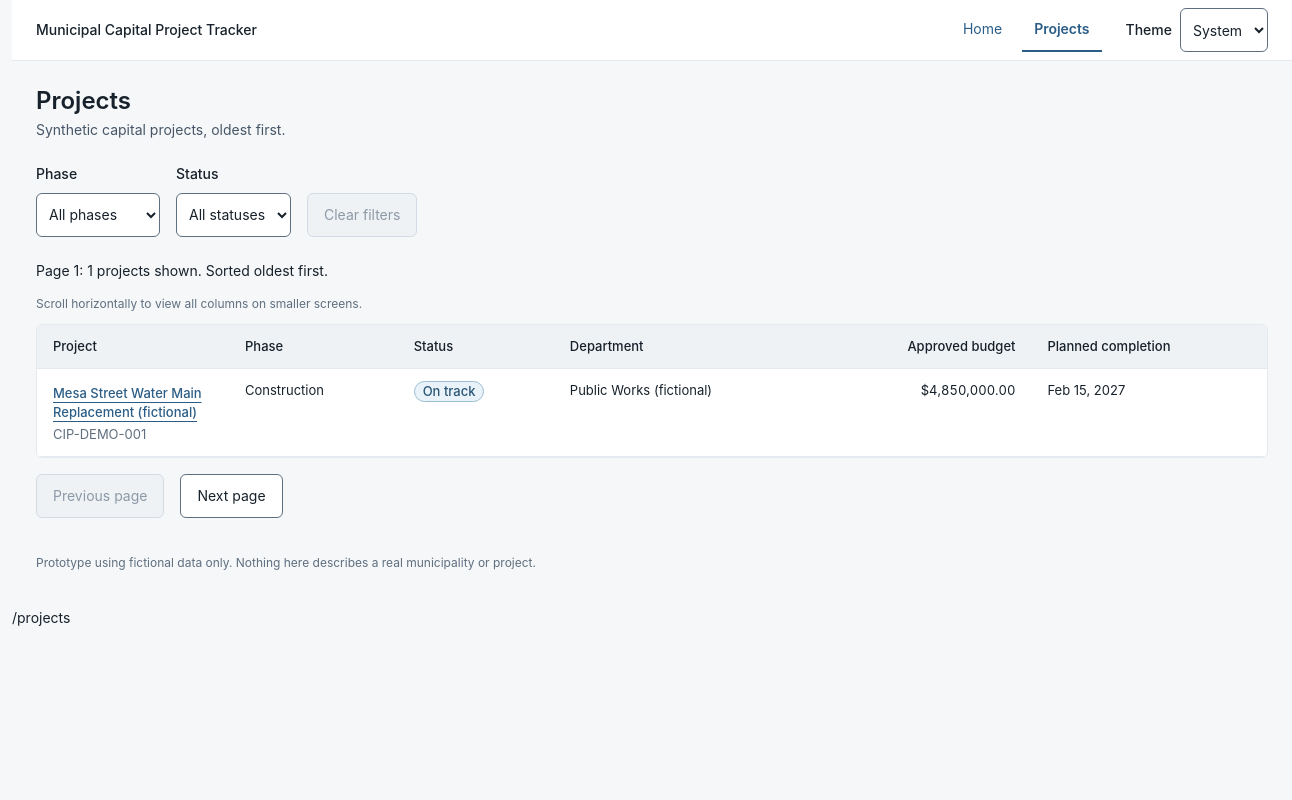
it: ProjectsPage › walks forward and back through cursor pages
This screenshot has width=1292, height=800.
Expected: the link "Mesa Street Water Main Replacement (fictional)" is shown, [53, 381, 213, 425]
Expected: the button "Previous page" is disabled, [36, 474, 164, 518]
Step 1. Click the button "Next page" → {"x": 232, "y": 496}, box [180, 474, 283, 518]
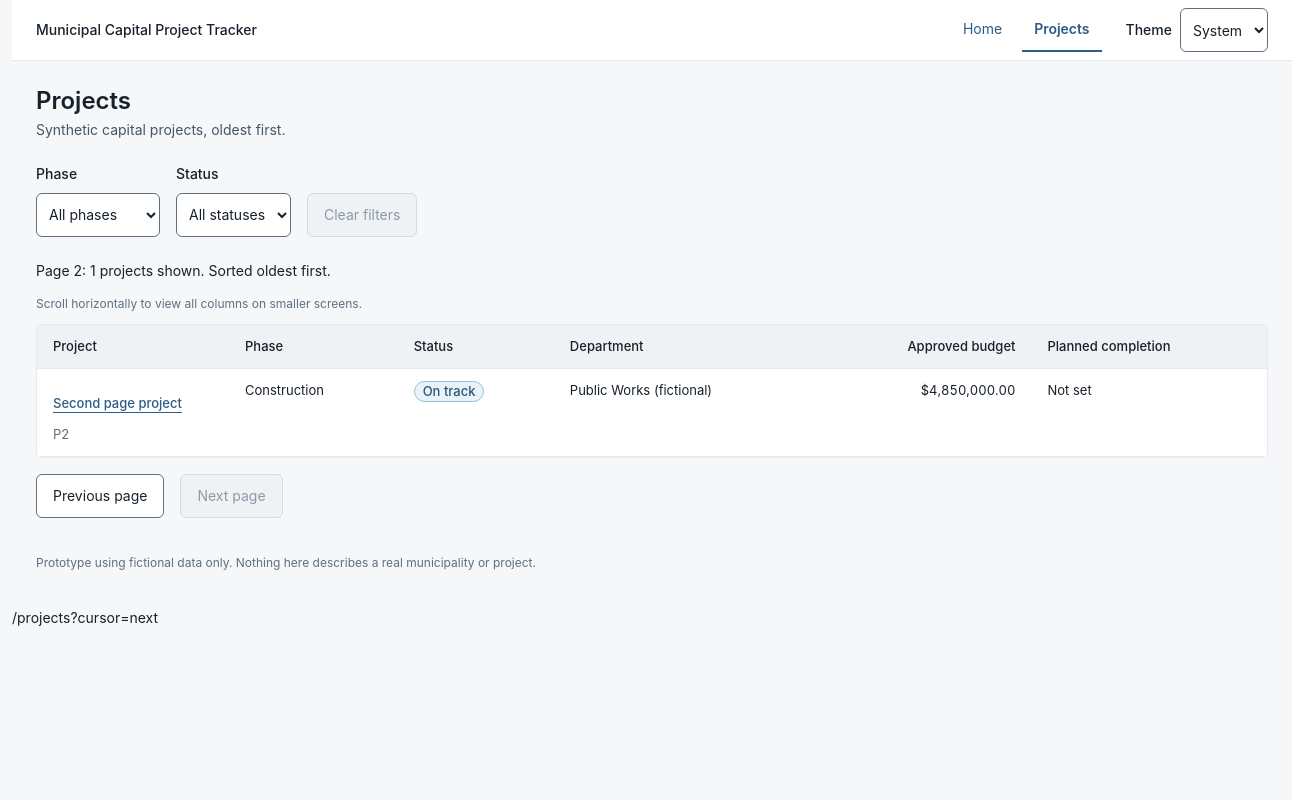
Expected: the link "Second page project" is shown, [53, 395, 182, 411]
Expected: the button "Next page" is disabled, [180, 474, 283, 518]
Step 2. Click the button "Previous page" → {"x": 100, "y": 496}, box [36, 474, 164, 518]
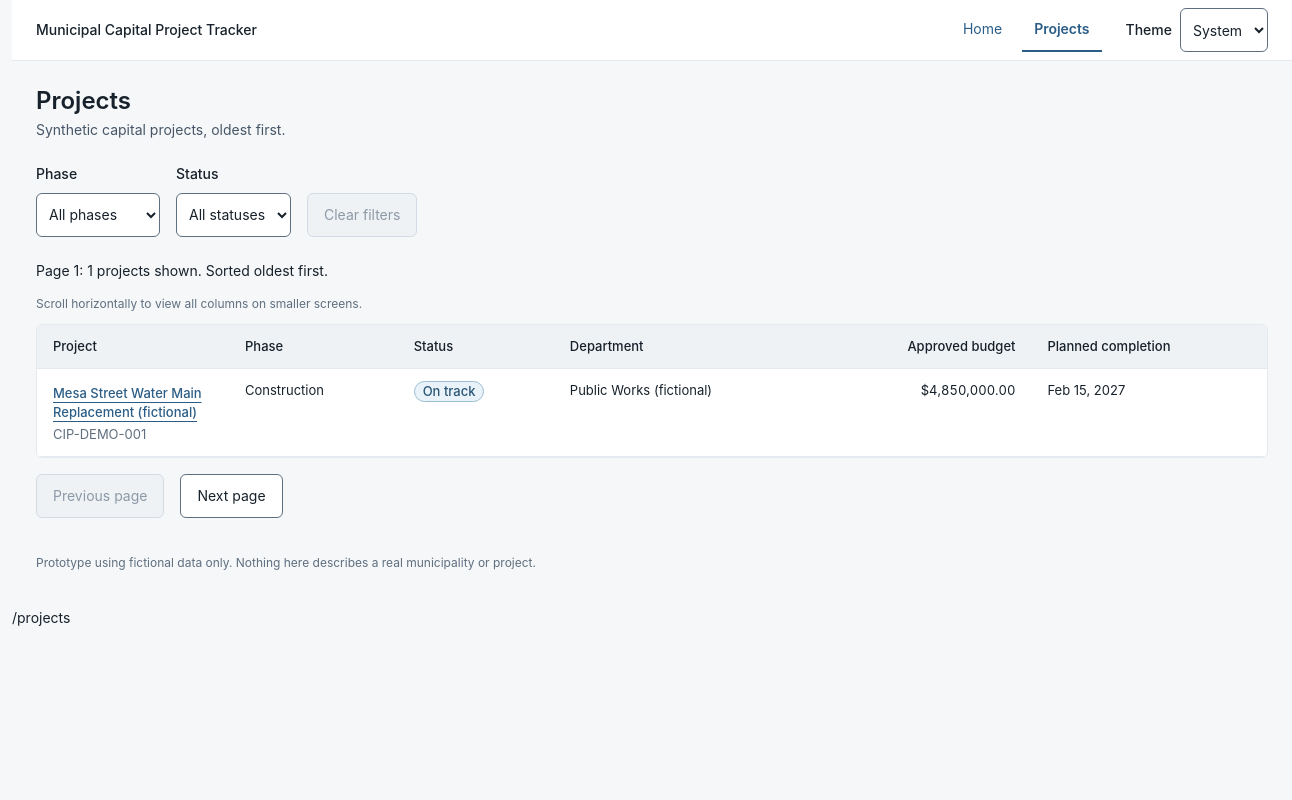
Expected: the link "Mesa Street Water Main Replacement (fictional)" is shown, [53, 381, 213, 425]
